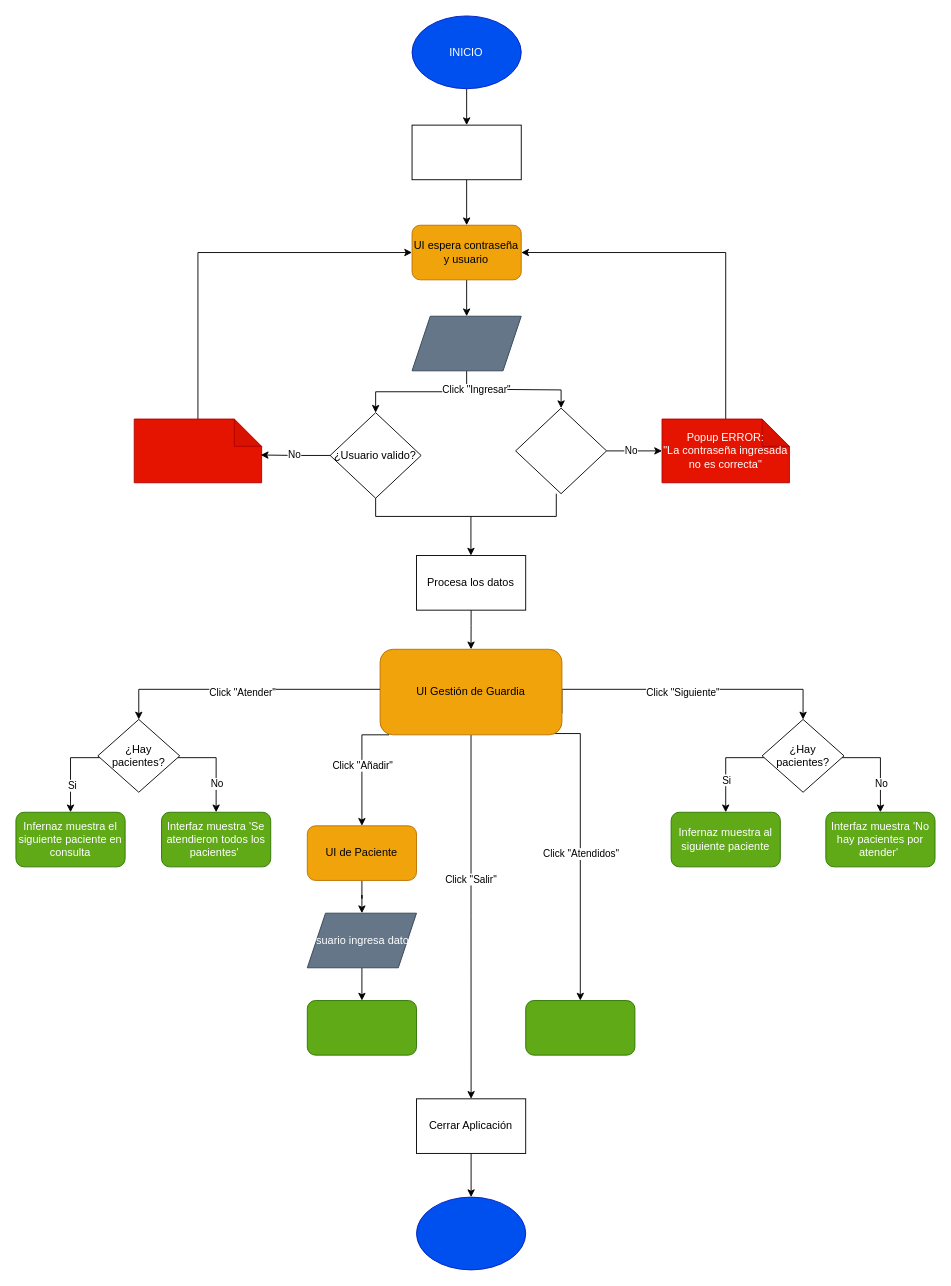
The diagram is 951 pixels wide and 1286 high, and some of its shapes have lost their labels. Here are the shapes that lost their labels. From the top down, the box of each, then its label:
(411, 124, 521, 180): Inicialización de aplicación
(411, 315, 521, 371): Usuario ingresa valores
(133, 418, 262, 483): Popup ERROR: "El Usuario ingresado no existe"
(515, 407, 607, 494): ¿Contraseña valida?
(306, 1000, 417, 1055): UI muestra paciente en espera
(525, 1000, 635, 1055): Interfaz muestra los pacientes atendidos
(416, 1196, 526, 1270): SALIR
